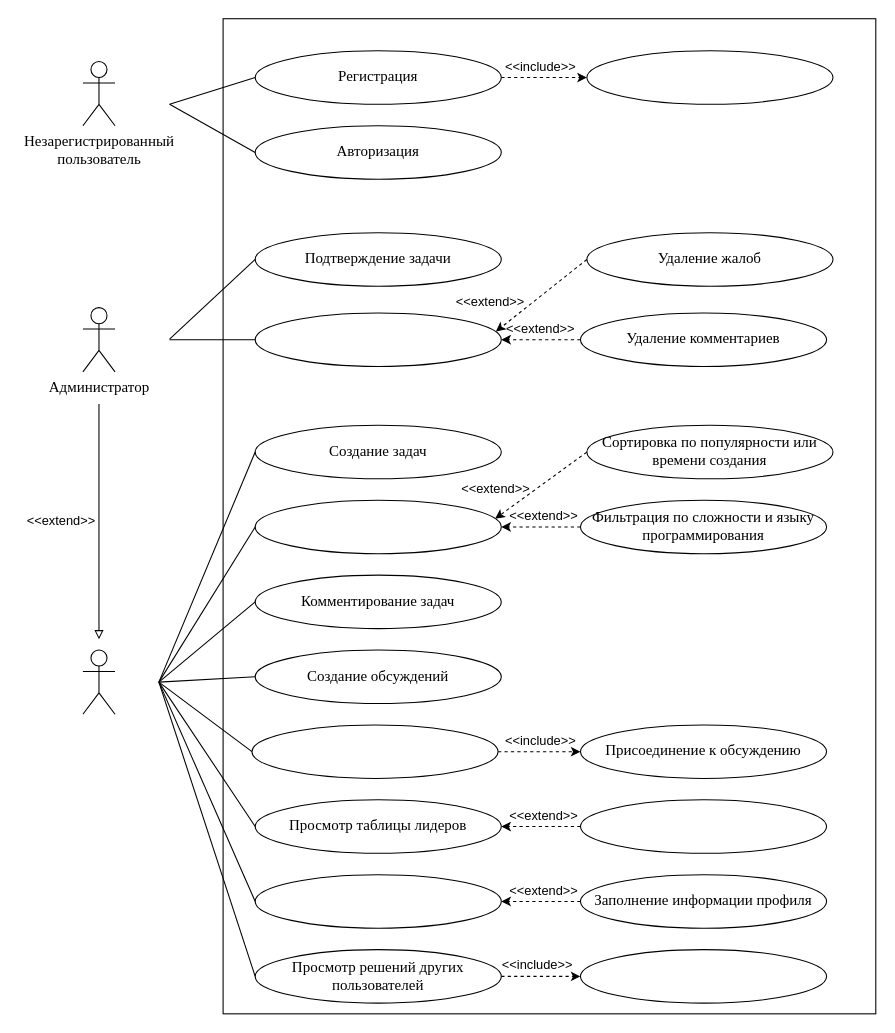
This 895x1033 diagram has some shape labels left out. The centre of each missing label's shape, as x and y in pixels:
"Авторизированный пользователь" belongs at (x=98, y=681).
"Отправка сообщений" belongs at (x=374, y=751).
"Подтверждение кода активации" belongs at (x=709, y=77).
"Поиск задач" belongs at (x=377, y=526).
"Поиск пользователей" belongs at (x=703, y=826).
"Просмотр жалоб на комментарии" belongs at (x=377, y=339).
"Просмотр личного профиля" belongs at (x=377, y=901).
"Решение задач" belongs at (x=703, y=976).
